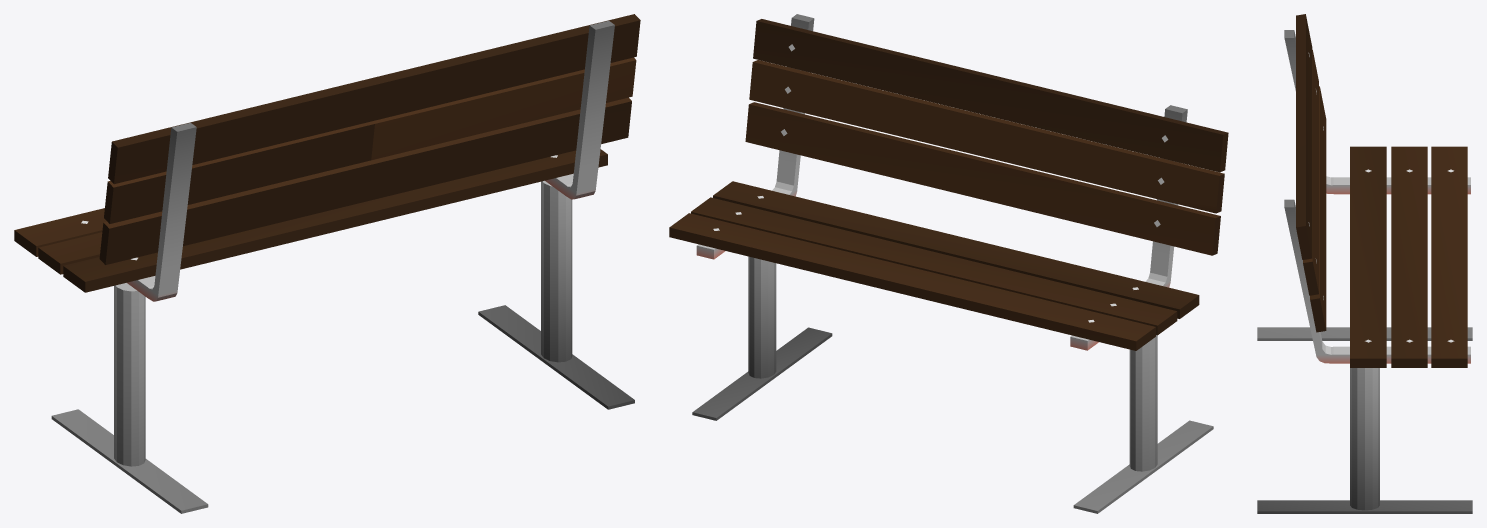
The model's file is SM_Bench_Wood_Color.fbx.
3 views of the same model, side by side, from view 1: azimuth 30°, elevation 25°; view 2: azimuth 150°, elevation 25°; view 3: azimuth 270°, elevation 25° (orthographic). The views are drawn at different scales.
Visible parts, largest first — view 1: Bench_Wood_Color_mash; view 2: Bench_Wood_Color_mash; view 3: Bench_Wood_Color_mash.
Part boxes in pixels (<box>): Bench_Wood_Color_mash: <box>14,14,640,513</box>; Bench_Wood_Color_mash: <box>669,14,1228,513</box>; Bench_Wood_Color_mash: <box>1257,14,1472,513</box>.
Size of the model in its own units: 4 by 2.68 by 1.72.
